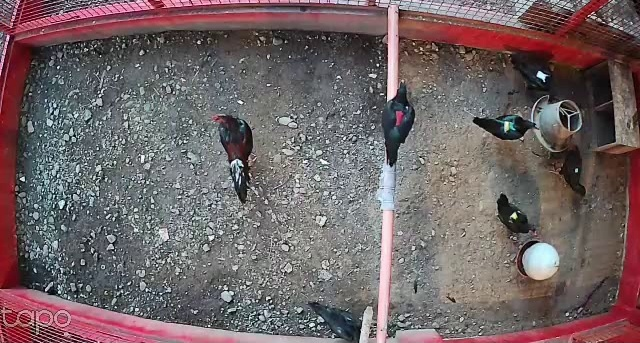Chicken: (381, 76, 419, 171), (502, 44, 560, 101), (467, 109, 542, 147), (548, 143, 592, 204), (303, 296, 360, 343), (491, 189, 539, 236)
Rooster: (213, 108, 266, 211)
Saddle_Color_Red: (391, 113, 407, 127)
Saddle_Color_White: (534, 68, 547, 82)
Saddle_Color_Yellow: (507, 209, 522, 222)
Saddle_Color_YellowGreen: (503, 121, 515, 134)
